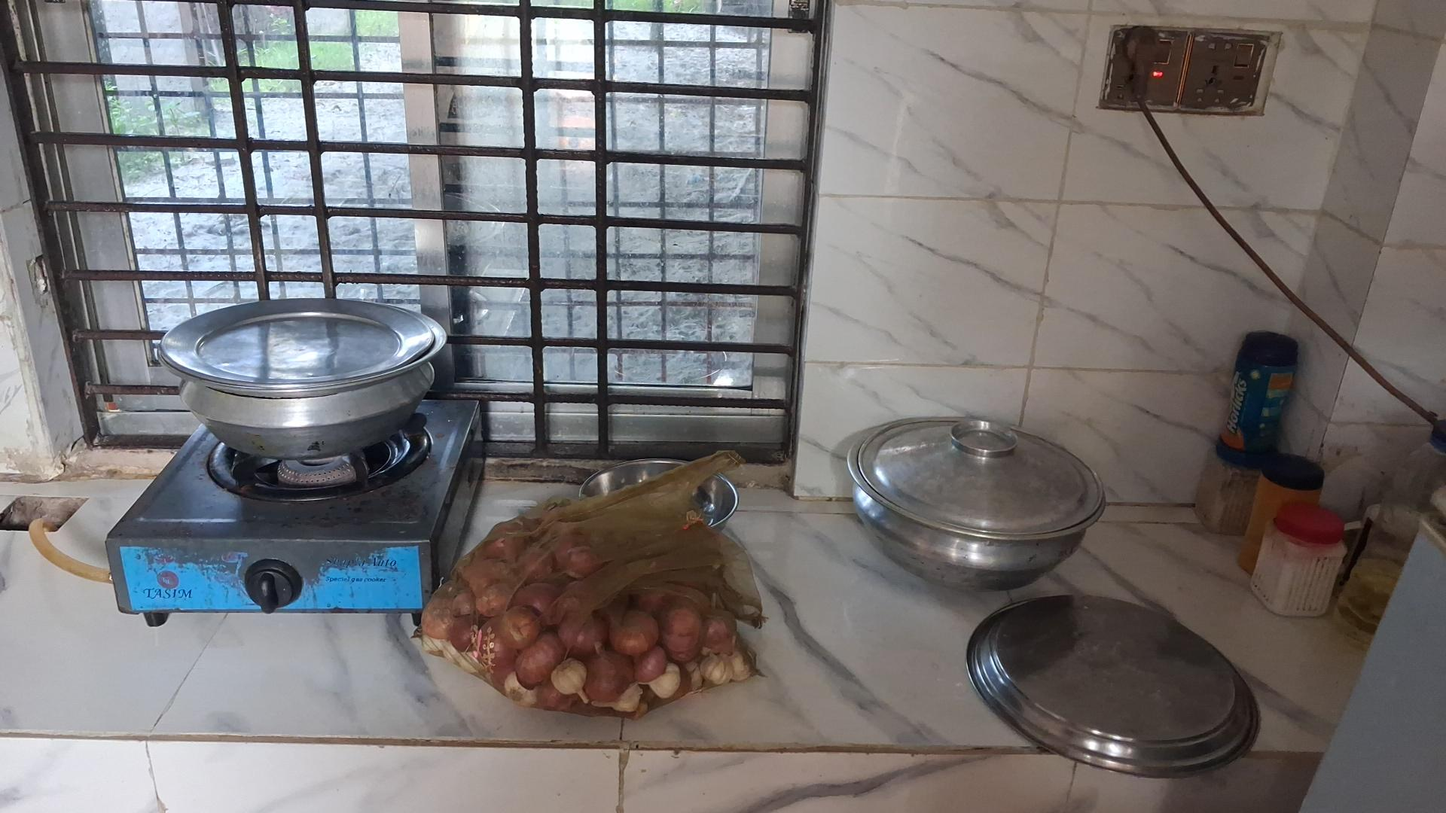Food: (416, 517, 760, 706)
Jar: (1252, 504, 1353, 617), (1222, 323, 1304, 457), (1197, 443, 1257, 524)
Plate: (964, 591, 1262, 775)
Pot: (153, 293, 445, 463), (847, 415, 1106, 591)
